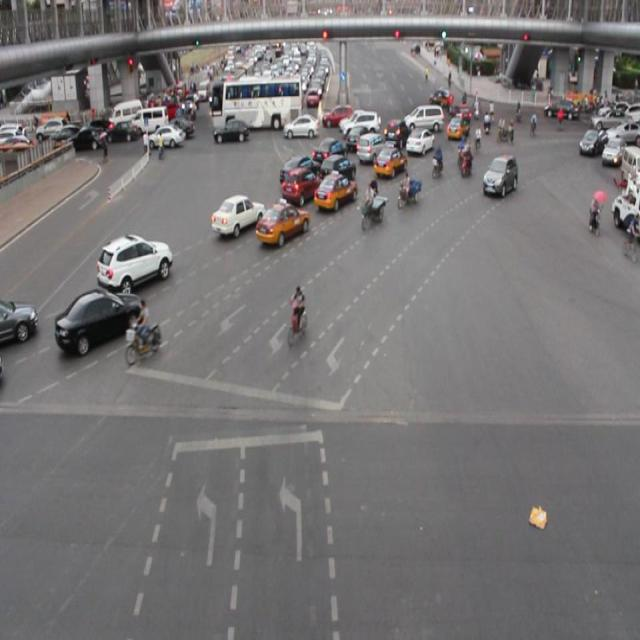car: (56, 287, 145, 348), (97, 232, 173, 290), (211, 193, 265, 235), (257, 201, 309, 243), (1, 296, 38, 348), (313, 172, 356, 210), (482, 155, 518, 197), (281, 168, 321, 204), (320, 152, 355, 185), (279, 155, 317, 185), (374, 144, 406, 177), (355, 132, 386, 162), (313, 138, 346, 165), (404, 127, 434, 156)
